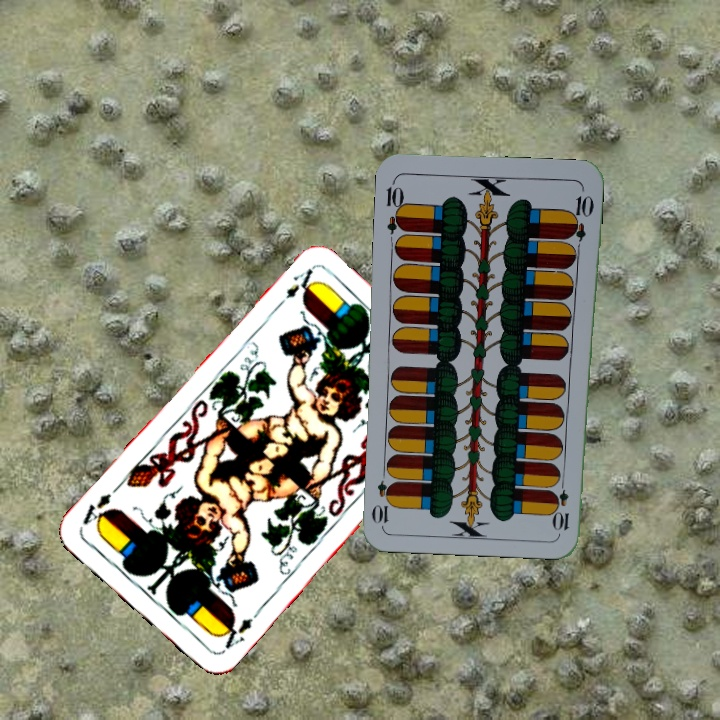E10: (382, 176, 408, 235), (553, 474, 572, 533)
EA: (271, 264, 318, 313), (214, 613, 256, 652)
